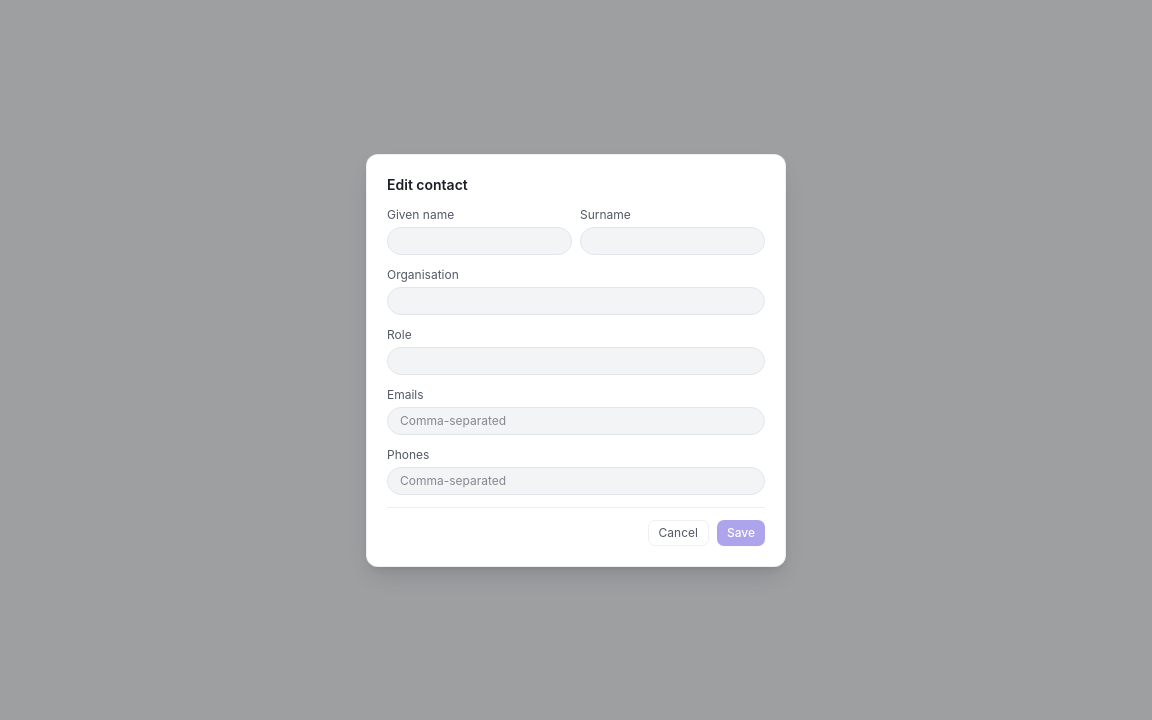
Test case: the contact editor › offers no save while an edit changed nothing
The image size is (1152, 720).
Check: the button "Save" is disabled, box x1=717 y1=520 x2=765 y2=546
Type "Ada2" into the field labelled "Given name" at (480, 240), box x1=387 y1=226 x2=572 y2=254
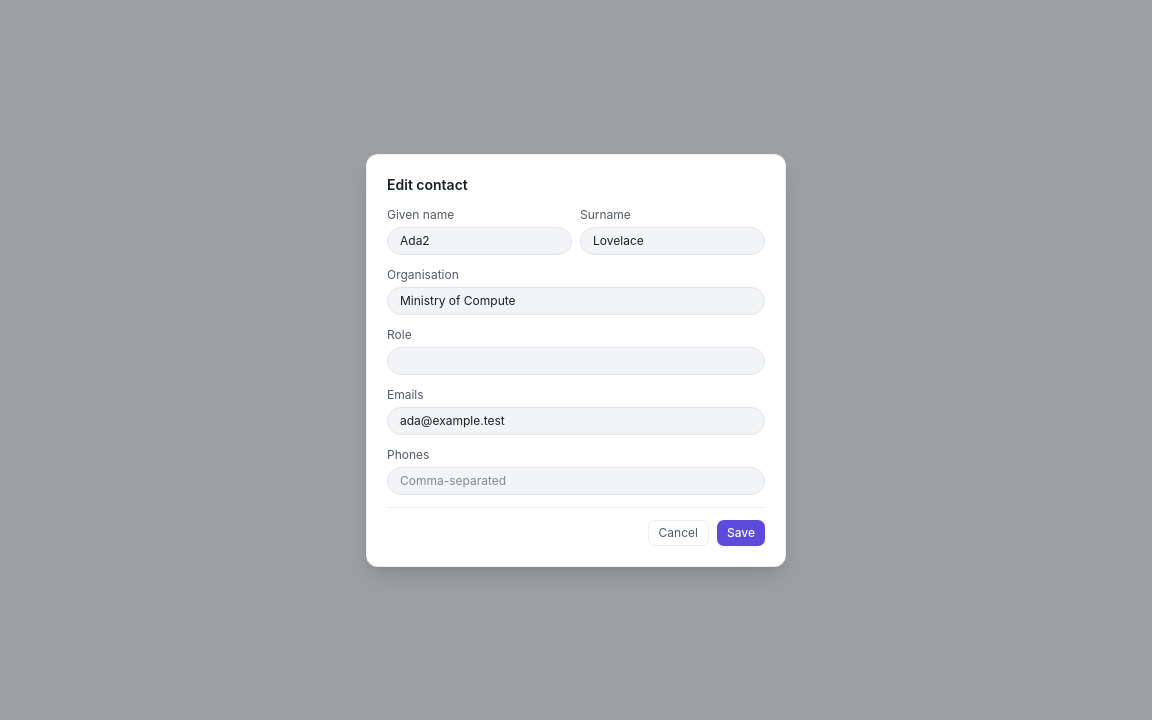
Check: the button "Save" is enabled, box x1=717 y1=520 x2=765 y2=546
